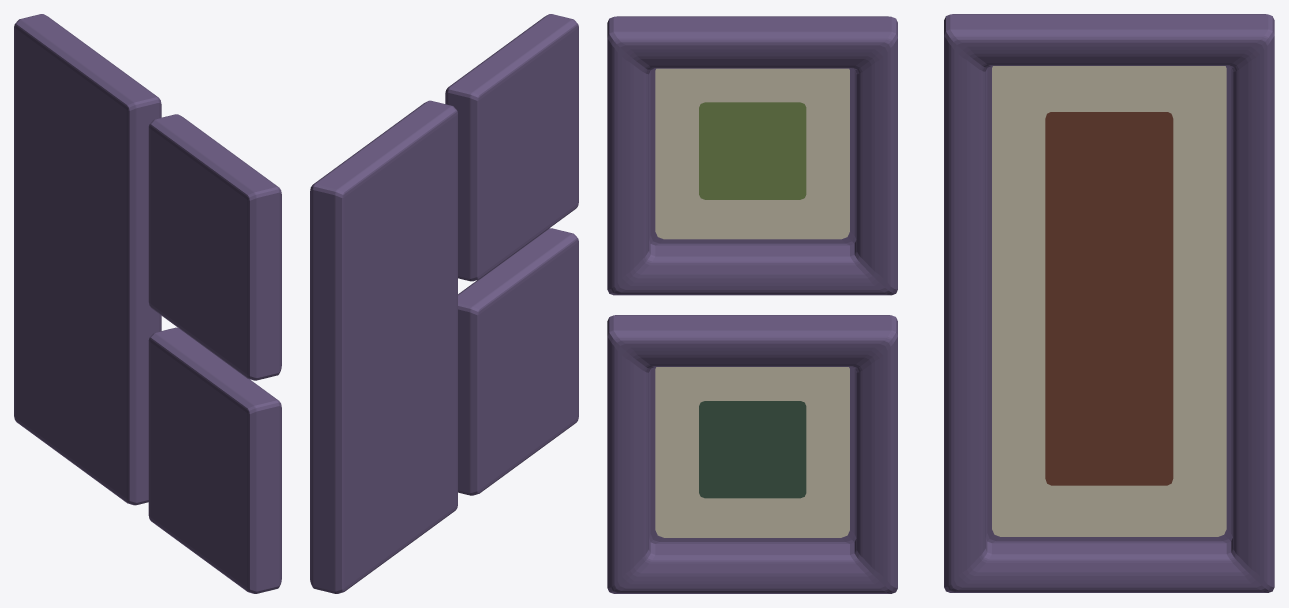
Rendered from Livingroom_Pictures.fbx.
3 renders of one model, left to right at view 1: azimuth 30°, elevation 25°; view 2: azimuth 150°, elevation 25°; view 3: azimuth 270°, elevation 25°, orthographic. The views are drawn at different scales.
Parts seen in each view (by area): view 1: Livingroom_Pictures.001; view 2: Livingroom_Pictures.001; view 3: Livingroom_Pictures.001, Livingroom_Pictures.002, Livingroom_Pictures.004, Livingroom_Pictures.003, Livingroom_Pictures.
Part boxes in pixels (x1,y1,x2,y2): Livingroom_Pictures.001: (14,14,281,593); Livingroom_Pictures.001: (310,14,578,593); Livingroom_Pictures.001: (607,14,1274,593); Livingroom_Pictures.002: (655,66,1226,537); Livingroom_Pictures.004: (1045,112,1173,485); Livingroom_Pictures.003: (699,401,806,498); Livingroom_Pictures: (699,102,806,199).
Bounding box in the file's own units: 113 × 105 × 9.32.
